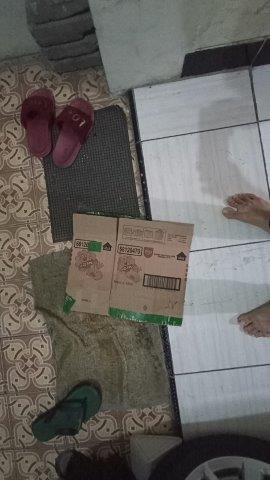kardus: (66, 214, 193, 325)
